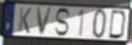0: (91, 8, 108, 40)
1: (77, 9, 85, 38)
D: (108, 9, 128, 41)
K: (17, 6, 33, 35)
S: (54, 7, 72, 37)
V: (35, 7, 54, 37)
